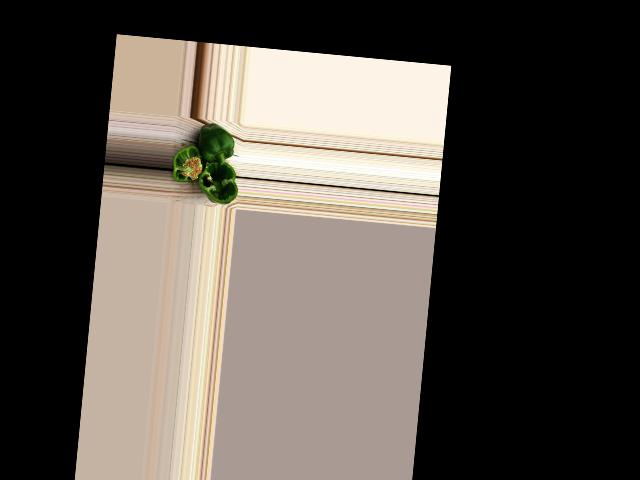bell_pepper: (170, 141, 207, 192)
